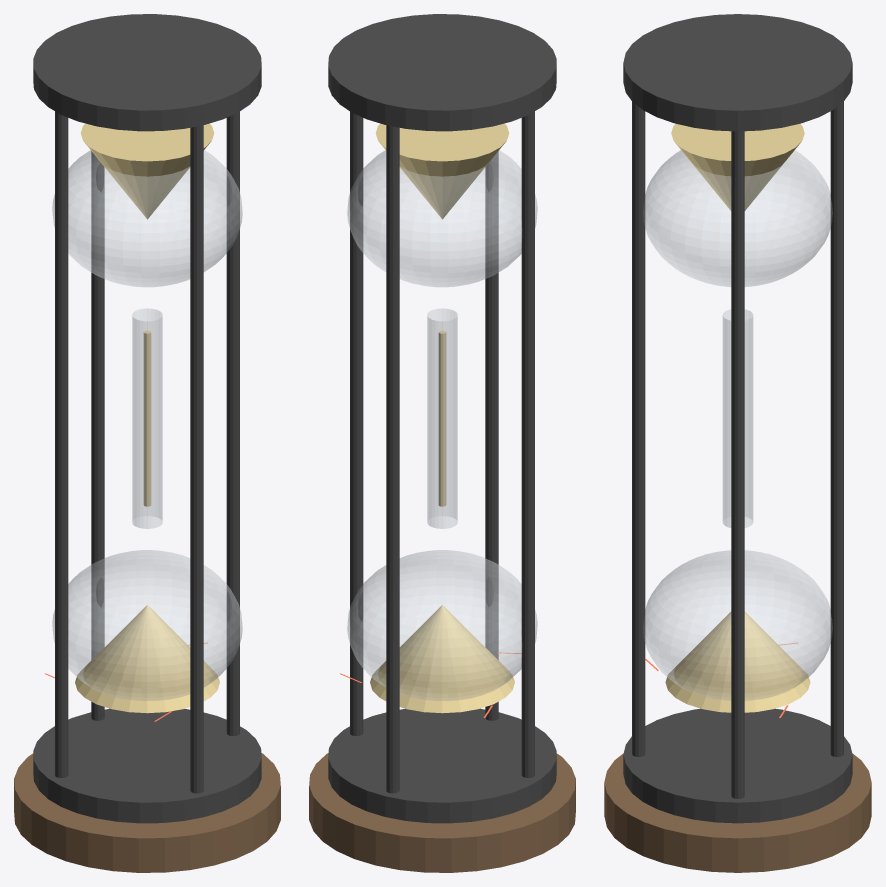
Rendered from hourglass.glb.
The picture shows the model from 3 angles, left to right: view 1: azimuth 30°, elevation 25°; view 2: azimuth 150°, elevation 25°; view 3: azimuth 270°, elevation 25°; orthographic projection.
Parts seen in each view (by area): view 1: TopCap, LowerBulb, BottomCap, UpperBulb, WoodBase, Post_270, Post_180, SandLower, Post_0, Post_90, Neck, SandUpper (+1 smaller); view 2: TopCap, LowerBulb, BottomCap, UpperBulb, WoodBase, Post_90, Post_180, SandLower, Post_0, Post_270, Neck, SandUpper (+1 smaller); view 3: TopCap, LowerBulb, BottomCap, UpperBulb, WoodBase, Post_0, Post_90, Post_270, SandLower, SandUpper, Neck.
Part boxes in pixels (box(x1,y1,x2,y2)): TopCap: box(33, 14, 261, 131); LowerBulb: box(52, 550, 242, 700); BottomCap: box(33, 708, 261, 823); UpperBulb: box(52, 150, 242, 287); WoodBase: box(14, 753, 280, 872); Post_270: box(190, 125, 203, 793); Post_180: box(55, 111, 68, 777); SandLower: box(75, 605, 219, 713); Post_0: box(226, 111, 239, 736); Post_90: box(91, 151, 104, 720); Neck: box(132, 308, 162, 528); SandUpper: box(80, 123, 214, 219); TopCap: box(328, 14, 556, 131); LowerBulb: box(347, 550, 537, 700); BottomCap: box(328, 708, 556, 823); UpperBulb: box(347, 150, 537, 287); WoodBase: box(309, 753, 575, 872); Post_90: box(386, 125, 399, 793); Post_180: box(521, 111, 534, 777); SandLower: box(370, 605, 514, 713); Post_0: box(350, 111, 363, 736); Post_270: box(485, 151, 498, 720); Neck: box(427, 308, 457, 528); SandUpper: box(375, 123, 509, 219); TopCap: box(623, 14, 852, 131); LowerBulb: box(643, 550, 832, 700); BottomCap: box(623, 708, 852, 823); UpperBulb: box(643, 150, 832, 286); WoodBase: box(604, 753, 871, 872); Post_0: box(731, 131, 744, 798); Post_90: box(830, 102, 843, 756); Post_270: box(632, 102, 645, 756); SandLower: box(665, 611, 810, 712); SandUpper: box(671, 124, 804, 210); Neck: box(722, 309, 753, 527).
Bounding box in the file's own units: 1.4 × 4.36 × 1.4.
